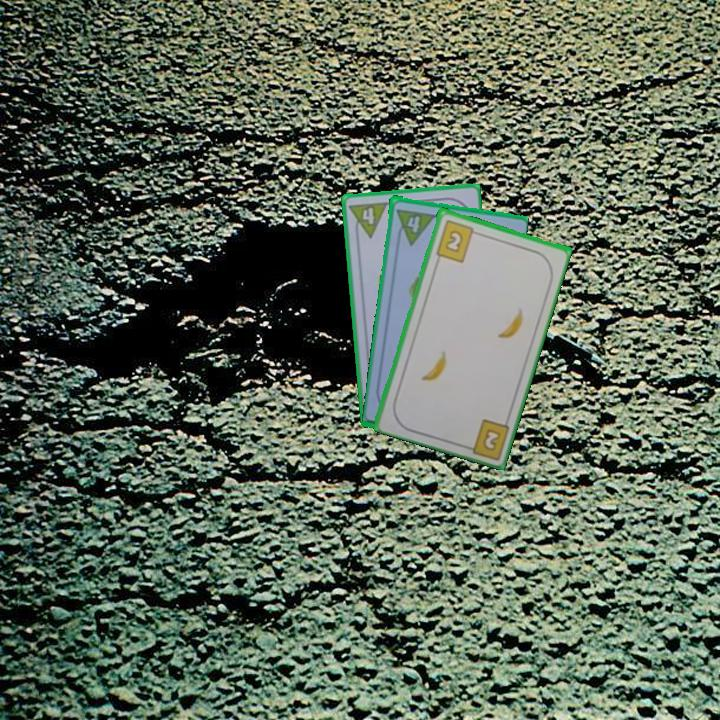2b: (432, 216, 481, 265), (479, 425, 503, 453)
4p: (346, 198, 390, 241), (392, 205, 437, 247)
